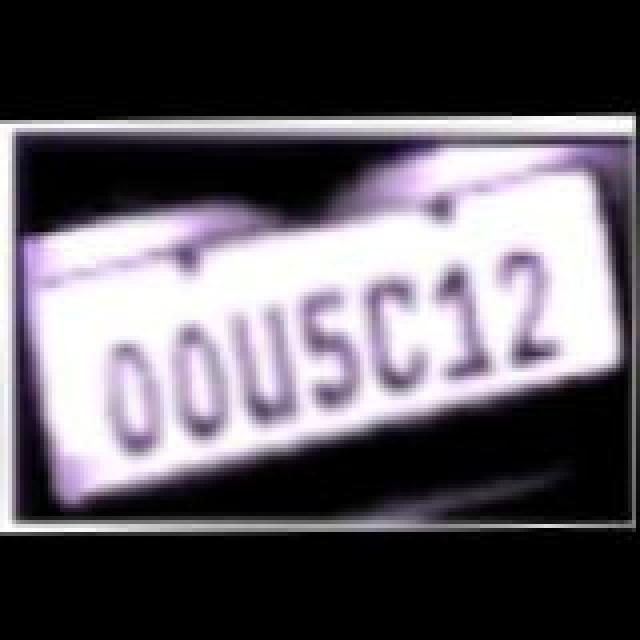1: (416, 258, 508, 382)
2: (482, 242, 578, 366)
5: (280, 282, 380, 410)
C: (354, 266, 450, 390)
O: (150, 316, 246, 444), (88, 332, 184, 452)
U: (214, 296, 318, 428)
